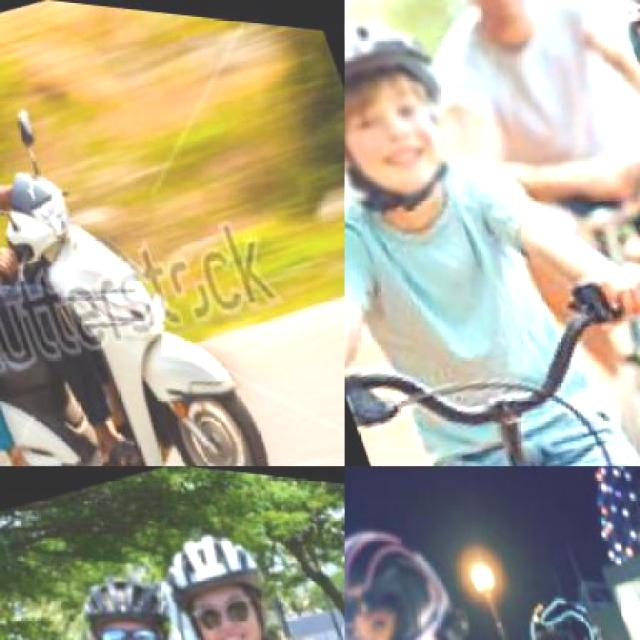With Helmet: (344, 0, 488, 243), (146, 498, 302, 638), (344, 494, 488, 638), (68, 544, 200, 638), (517, 570, 618, 638)
